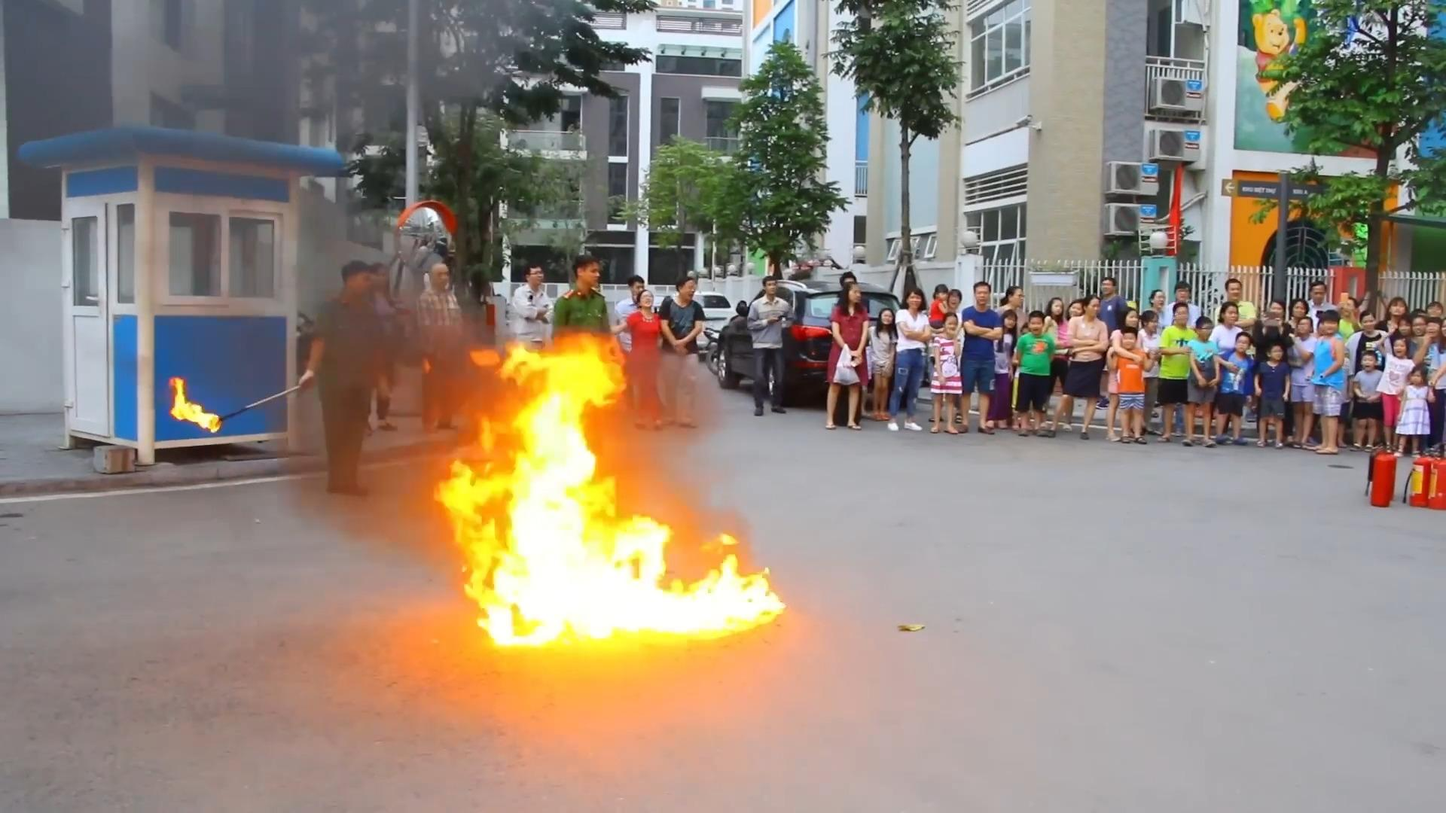FireExtinguisher: (1403, 450, 1446, 518), (1364, 443, 1399, 513)
